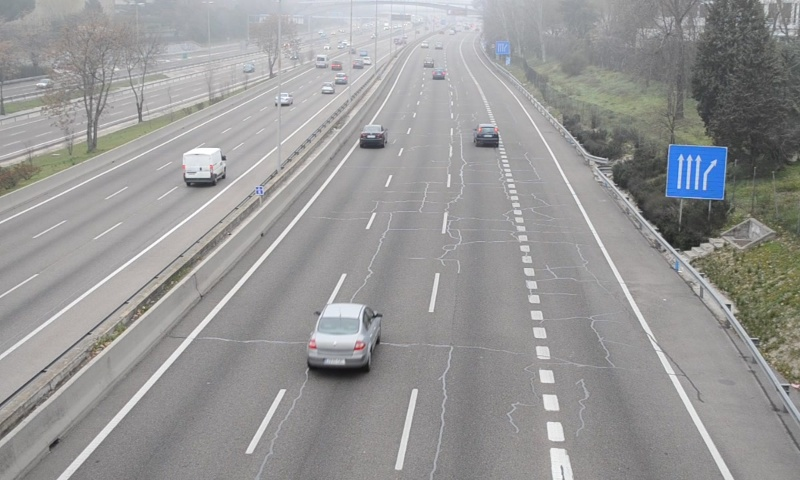car: (308, 304, 380, 372), (358, 124, 386, 147), (474, 123, 498, 144)
